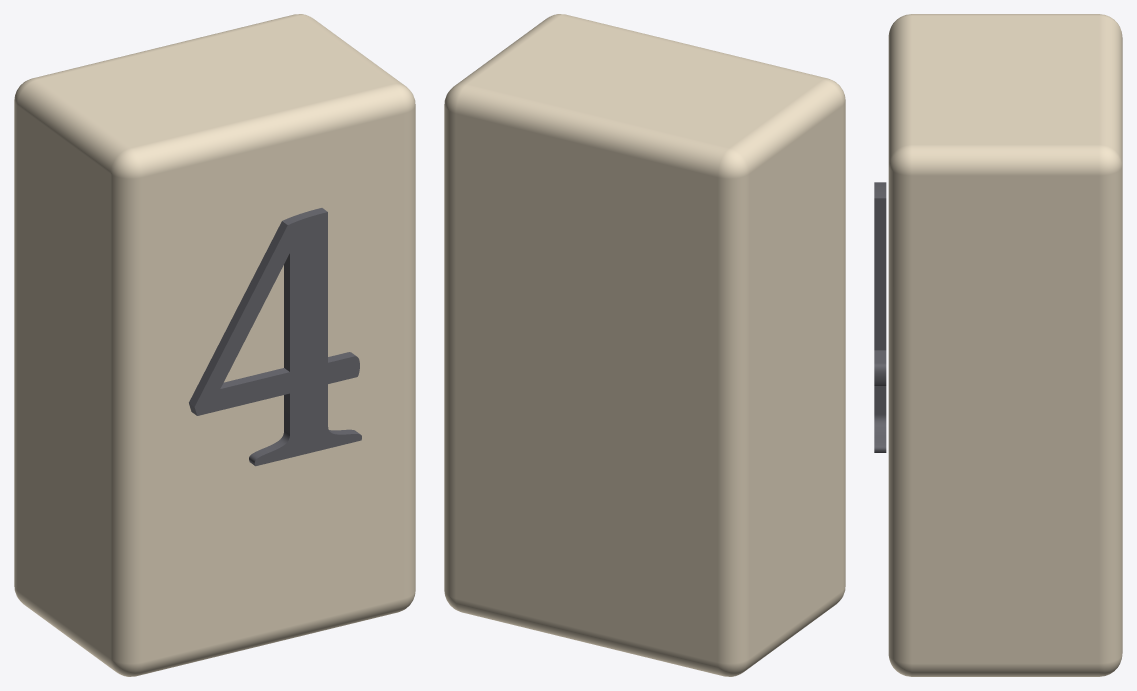
Rendered from pin_4.gltf.
3 views of the same model, side by side, from view 1: azimuth 30°, elevation 25°; view 2: azimuth 150°, elevation 25°; view 3: azimuth 270°, elevation 25° (orthographic).
Visible parts, largest first — view 1: White, Black; view 2: White; view 3: White, Black.
Boxes of the visible parts, bbox=[...] form: White: bbox=[14, 14, 415, 676]; Black: bbox=[189, 208, 361, 466]; White: bbox=[444, 14, 845, 676]; White: bbox=[888, 14, 1122, 676]; Black: bbox=[874, 182, 886, 452].
Size of the model in its own units: 1.5 by 2.5 by 1.06.
